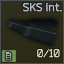SKS 7.62x39 10-round internal box magazine: (0, 0, 64, 64)
